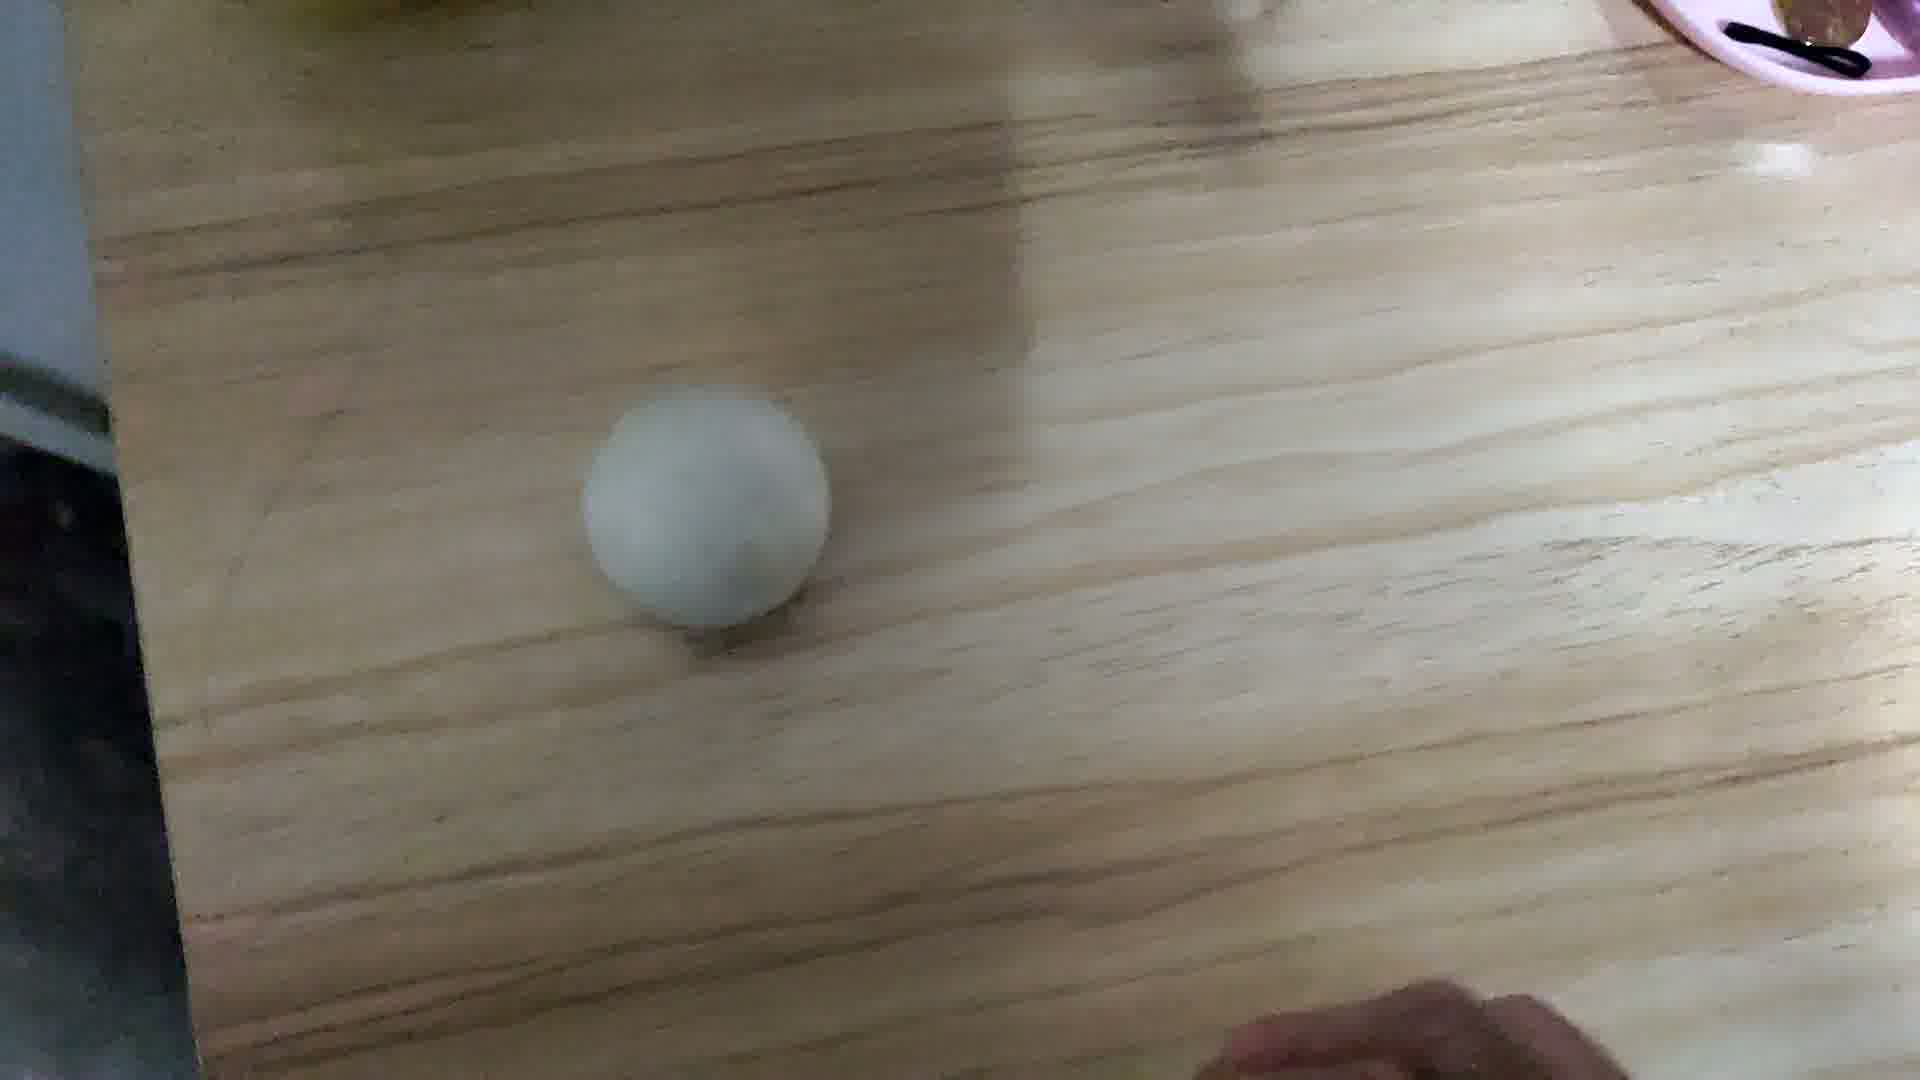Ball: (580, 385, 833, 624)
